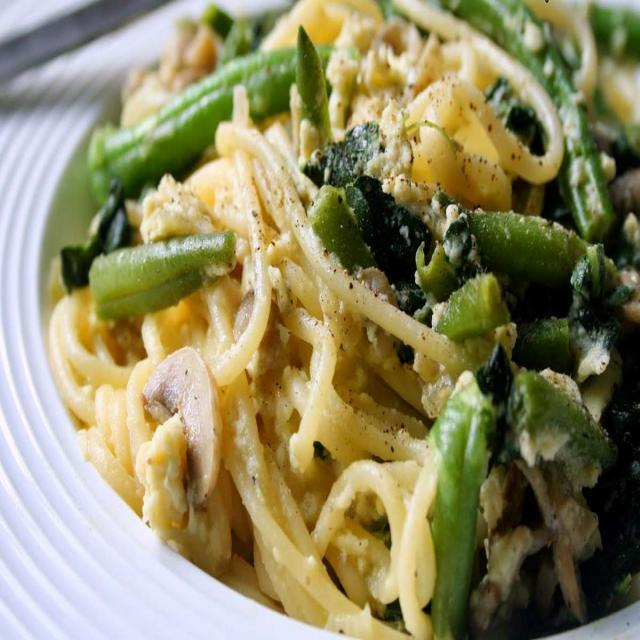Pasta with carbonara sauce: (45, 24, 615, 612)
